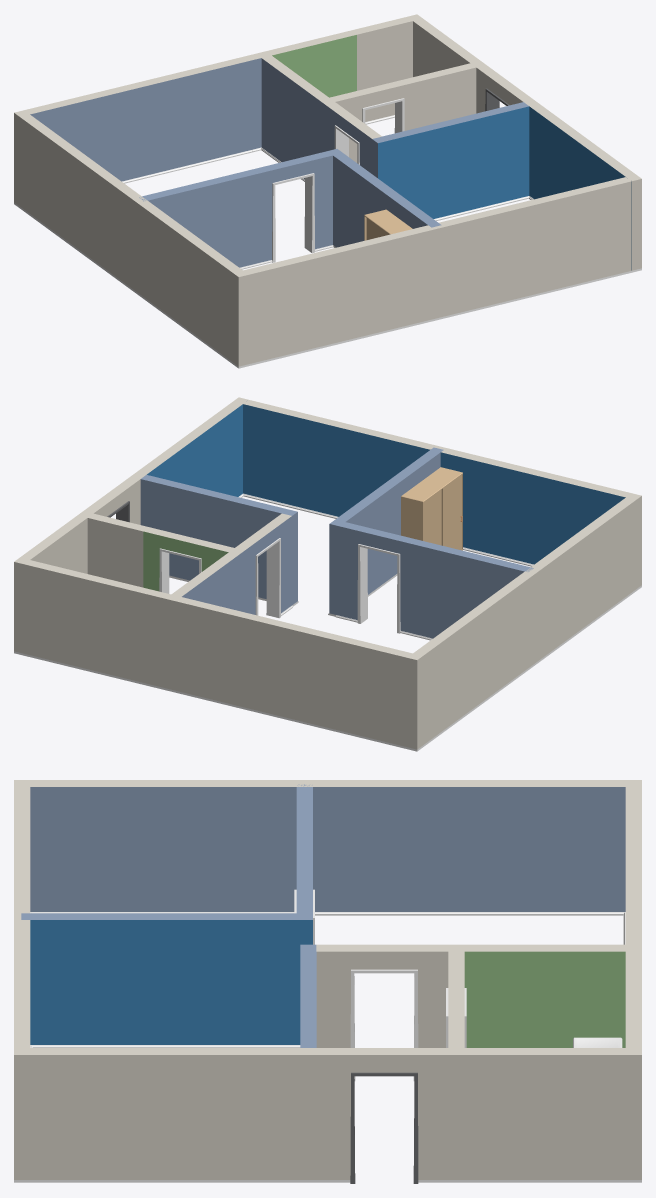
File: walltest.fbx
3 renders of one model, top to bottom at view 1: azimuth 30°, elevation 25°; view 2: azimuth 150°, elevation 25°; view 3: azimuth 270°, elevation 25°, orthographic. The views are drawn at different scales.
Visible parts, largest first — view 1: Wall_019, Wall_009, Wall__1_, Wall, Wall_007__1_, Wall_016, Wall_012, Wall_007, Wall_002, Wall_014, Wall_019__1_, Wall_027__2_ (+5 smaller); view 2: Wall_019, Wall_009, Wall_012, Wall_002, Wall, Wall_007__1_, Wall_016, Wall__1_, Wall_014, Wall_019__1_, Wall_007, Wardrobe (+6 smaller); view 3: Wall_009, Wall_016, Wall_019__1_, Wall_007, Wall_019, Wall_014, Wall_012, Wall_007__1_, Wall__1_, Wall_008, Wall_015, Wall_028 (+4 smaller).
Part boxes in pixels (x1,y1,x2,y2): Wall_019: (243,177,631,364); Wall_009: (14,110,248,366); Wall__1_: (372,102,529,218); Wall: (135,56,251,176); Wall_007__1_: (139,151,332,267); Wall_016: (407,14,641,270); Wall_012: (271,17,412,121); Wall_007: (261,55,381,178); Wall_002: (24,83,140,181); Wall_014: (329,61,485,162); Wall_019__1_: (327,149,441,247); Wall_027__2_: (272,173,314,262); Wall_019: (243,400,631,564); Wall_009: (407,493,641,749); Wall_012: (14,560,165,686); Wall_002: (296,626,412,746); Wall: (185,599,301,719); Wall_007__1_: (339,522,533,638); Wall_016: (14,397,248,573); Wall__1_: (140,475,297,605); Wall_014: (78,511,235,591); Wall_019__1_: (329,447,443,615); Wall_007: (171,513,291,614); Wardrobe: (401,467,462,550); Wall_009: (14,780,641,911); Wall_016: (14,1048,641,1179); Wall_019__1_: (21,913,312,1044); Wall_007: (316,944,625,1047); Wall_019: (14,787,30,1047); Wall_014: (448,951,464,1179); Wall_012: (625,955,641,1179); Wall_007__1_: (296,784,312,913); Wall__1_: (300,944,316,1047); Wall_008: (31,912,625,915); Wall_015: (14,1180,624,1182); Wall_028: (350,1072,418,1183).
Bounding box in the file's own units: 580 × 559 × 127.
